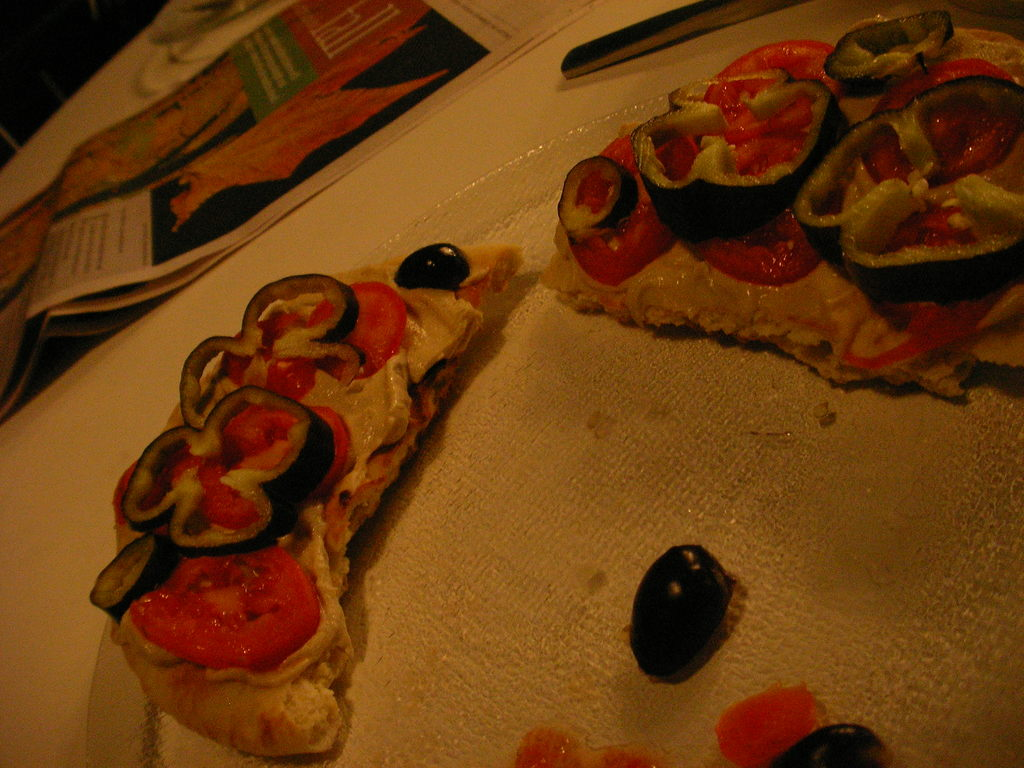Pizza: (66, 236, 504, 738), (525, 36, 1009, 384)
